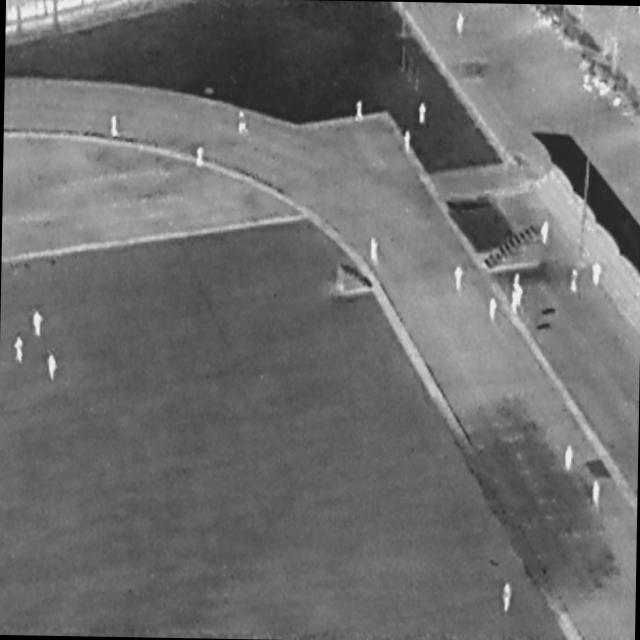person: (501, 584, 513, 614), (487, 298, 498, 324), (48, 354, 58, 382), (564, 446, 574, 474), (34, 311, 44, 337), (513, 284, 524, 307), (239, 110, 249, 135), (14, 337, 24, 362), (454, 266, 464, 291), (592, 261, 602, 286), (369, 238, 379, 262), (455, 13, 465, 36), (541, 221, 550, 245), (592, 481, 600, 507), (571, 269, 579, 294), (111, 117, 120, 138), (197, 147, 205, 170), (419, 103, 427, 124), (357, 101, 365, 122), (511, 292, 518, 315), (404, 132, 411, 153), (514, 273, 520, 292)
